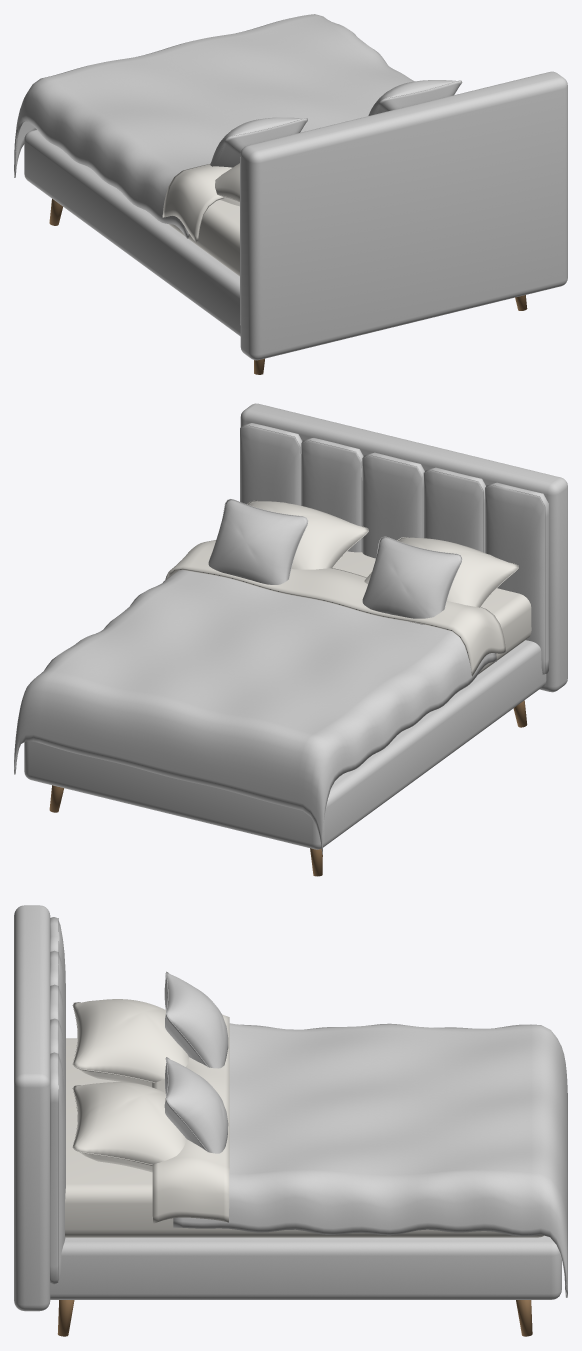
Rendered from bed-upholstered-queen.glb.
3 views of the same model, one above another, from view 1: azimuth 30°, elevation 25°; view 2: azimuth 150°, elevation 25°; view 3: azimuth 270°, elevation 25° (orthographic). The views are drawn at different scales.
Parts seen in each view (by area): view 1: Padded headboard, Soft draped duvet, Upholstered platform, Turned-back duvet edge, Rounded mattress, Loose accent pillow, Loose accent pillow.001, Sleeping pillow; view 2: Soft draped duvet, Upholstered platform, Padded headboard, Headboard padded channel, Turned-back duvet edge, Loose accent pillow.001, Loose accent pillow, Headboard padded channel.002, Headboard padded channel.003, Headboard padded channel.004, Headboard padded channel.001, Sleeping pillow.001 (+2 smaller); view 3: Soft draped duvet, Upholstered platform, Padded headboard, Rounded mattress, Sleeping pillow.001, Sleeping pillow, Turned-back duvet edge, Loose accent pillow, Loose accent pillow.001, Headboard padded channel.004, Headboard padded channel.003, Headboard padded channel.002 (+2 smaller).
Boxes of the visible parts, left/top/right/bottom form: Padded headboard: left=240, top=71, right=567, bottom=360; Soft draped duvet: left=14, top=14, right=414, bottom=238; Upholstered platform: left=24, top=129, right=240, bottom=336; Turned-back duvet edge: left=162, top=164, right=232, bottom=242; Rounded mattress: left=168, top=200, right=239, bottom=276; Loose accent pillow: left=210, top=117, right=307, bottom=167; Loose accent pillow.001: left=368, top=80, right=461, bottom=115; Sleeping pillow: left=215, top=163, right=239, bottom=206; Soft draped duvet: left=14, top=570, right=496, bottom=853; Upholstered platform: left=24, top=640, right=546, bottom=849; Padded headboard: left=240, top=403, right=567, bottom=692; Headboard padded channel: left=485, top=482, right=548, bottom=673; Turned-back duvet edge: left=165, top=540, right=505, bottom=676; Loose accent pillow.001: left=208, top=499, right=307, bottom=584; Loose accent pillow: left=362, top=537, right=461, bottom=624; Headboard padded channel.002: left=362, top=452, right=424, bottom=558; Headboard padded channel.003: left=301, top=438, right=363, bottom=552; Headboard padded channel.004: left=240, top=423, right=302, bottom=505; Headboard padded channel.001: left=424, top=467, right=485, bottom=552; Sleeping pillow.001: left=247, top=500, right=368, bottom=569; Soft draped duvet: left=173, top=1023, right=567, bottom=1297; Upholstered platform: left=50, top=1235, right=561, bottom=1299; Padded headboard: left=14, top=905, right=50, bottom=1311; Rounded mattress: left=64, top=1038, right=543, bottom=1237; Sleeping pillow.001: left=73, top=1082, right=186, bottom=1172; Sleeping pillow: left=73, top=999, right=188, bottom=1087; Turned-back duvet edge: left=152, top=1014, right=229, bottom=1223; Loose accent pillow: left=164, top=972, right=228, bottom=1068; Loose accent pillow.001: left=164, top=1057, right=228, bottom=1153; Headboard padded channel.004: left=50, top=1052, right=65, bottom=1284; Headboard padded channel.003: left=50, top=1018, right=65, bottom=1118; Headboard padded channel.002: left=50, top=984, right=65, bottom=1082.
Size of the model in its own units: 1.55 by 1.12 by 2.06.
Materials: 3 (1 with a texture image).
